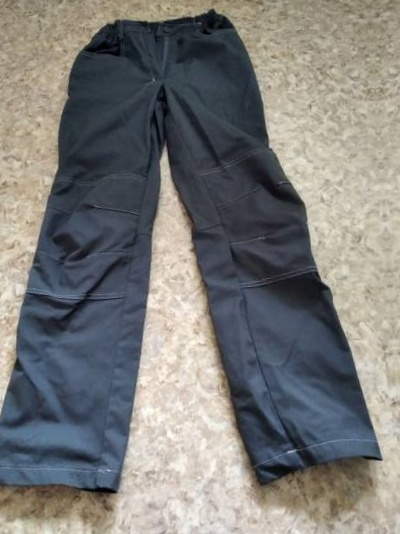Pants: (0, 0, 398, 524), (376, 0, 400, 493)
